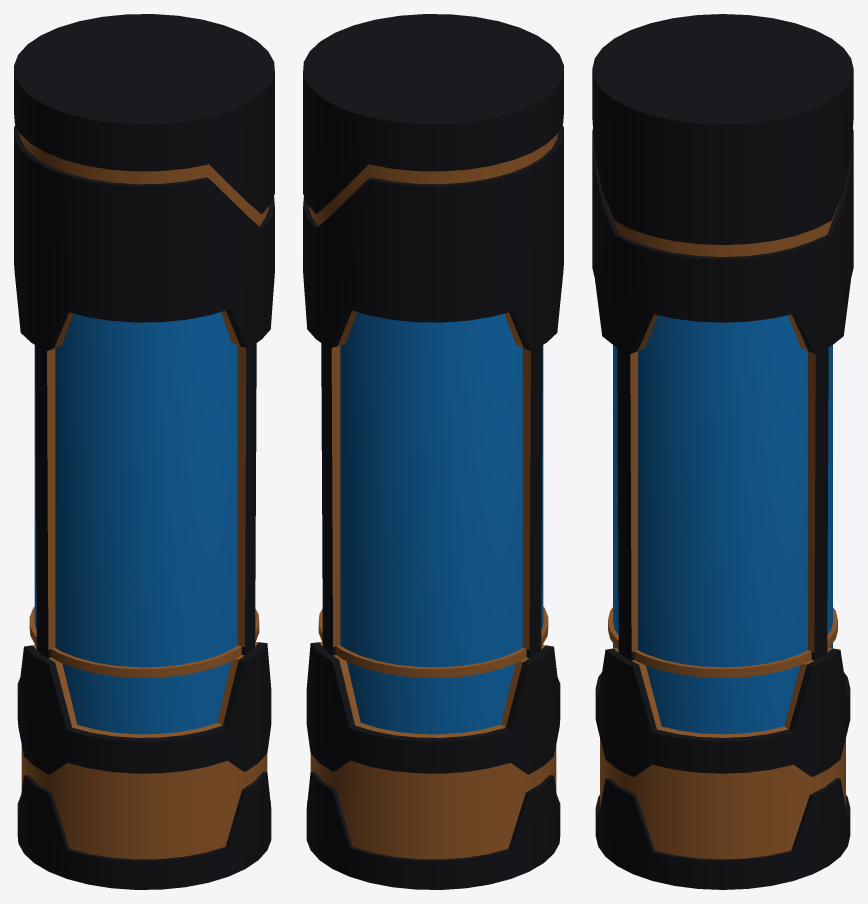
Rendered from 04_Objetivo.fbx.
3 renders of one model, left to right at view 1: azimuth 30°, elevation 25°; view 2: azimuth 150°, elevation 25°; view 3: azimuth 270°, elevation 25°, orthographic.
Visible parts, largest first — view 1: Objetivo_01; view 2: Objetivo_01; view 3: Objetivo_01.
Part boxes in pixels (bbox=[...]): Objetivo_01: bbox=[14, 14, 274, 889]; Objetivo_01: bbox=[303, 14, 563, 889]; Objetivo_01: bbox=[592, 14, 853, 889].
Bounding box in the file's own units: 492 × 1593 × 492.
